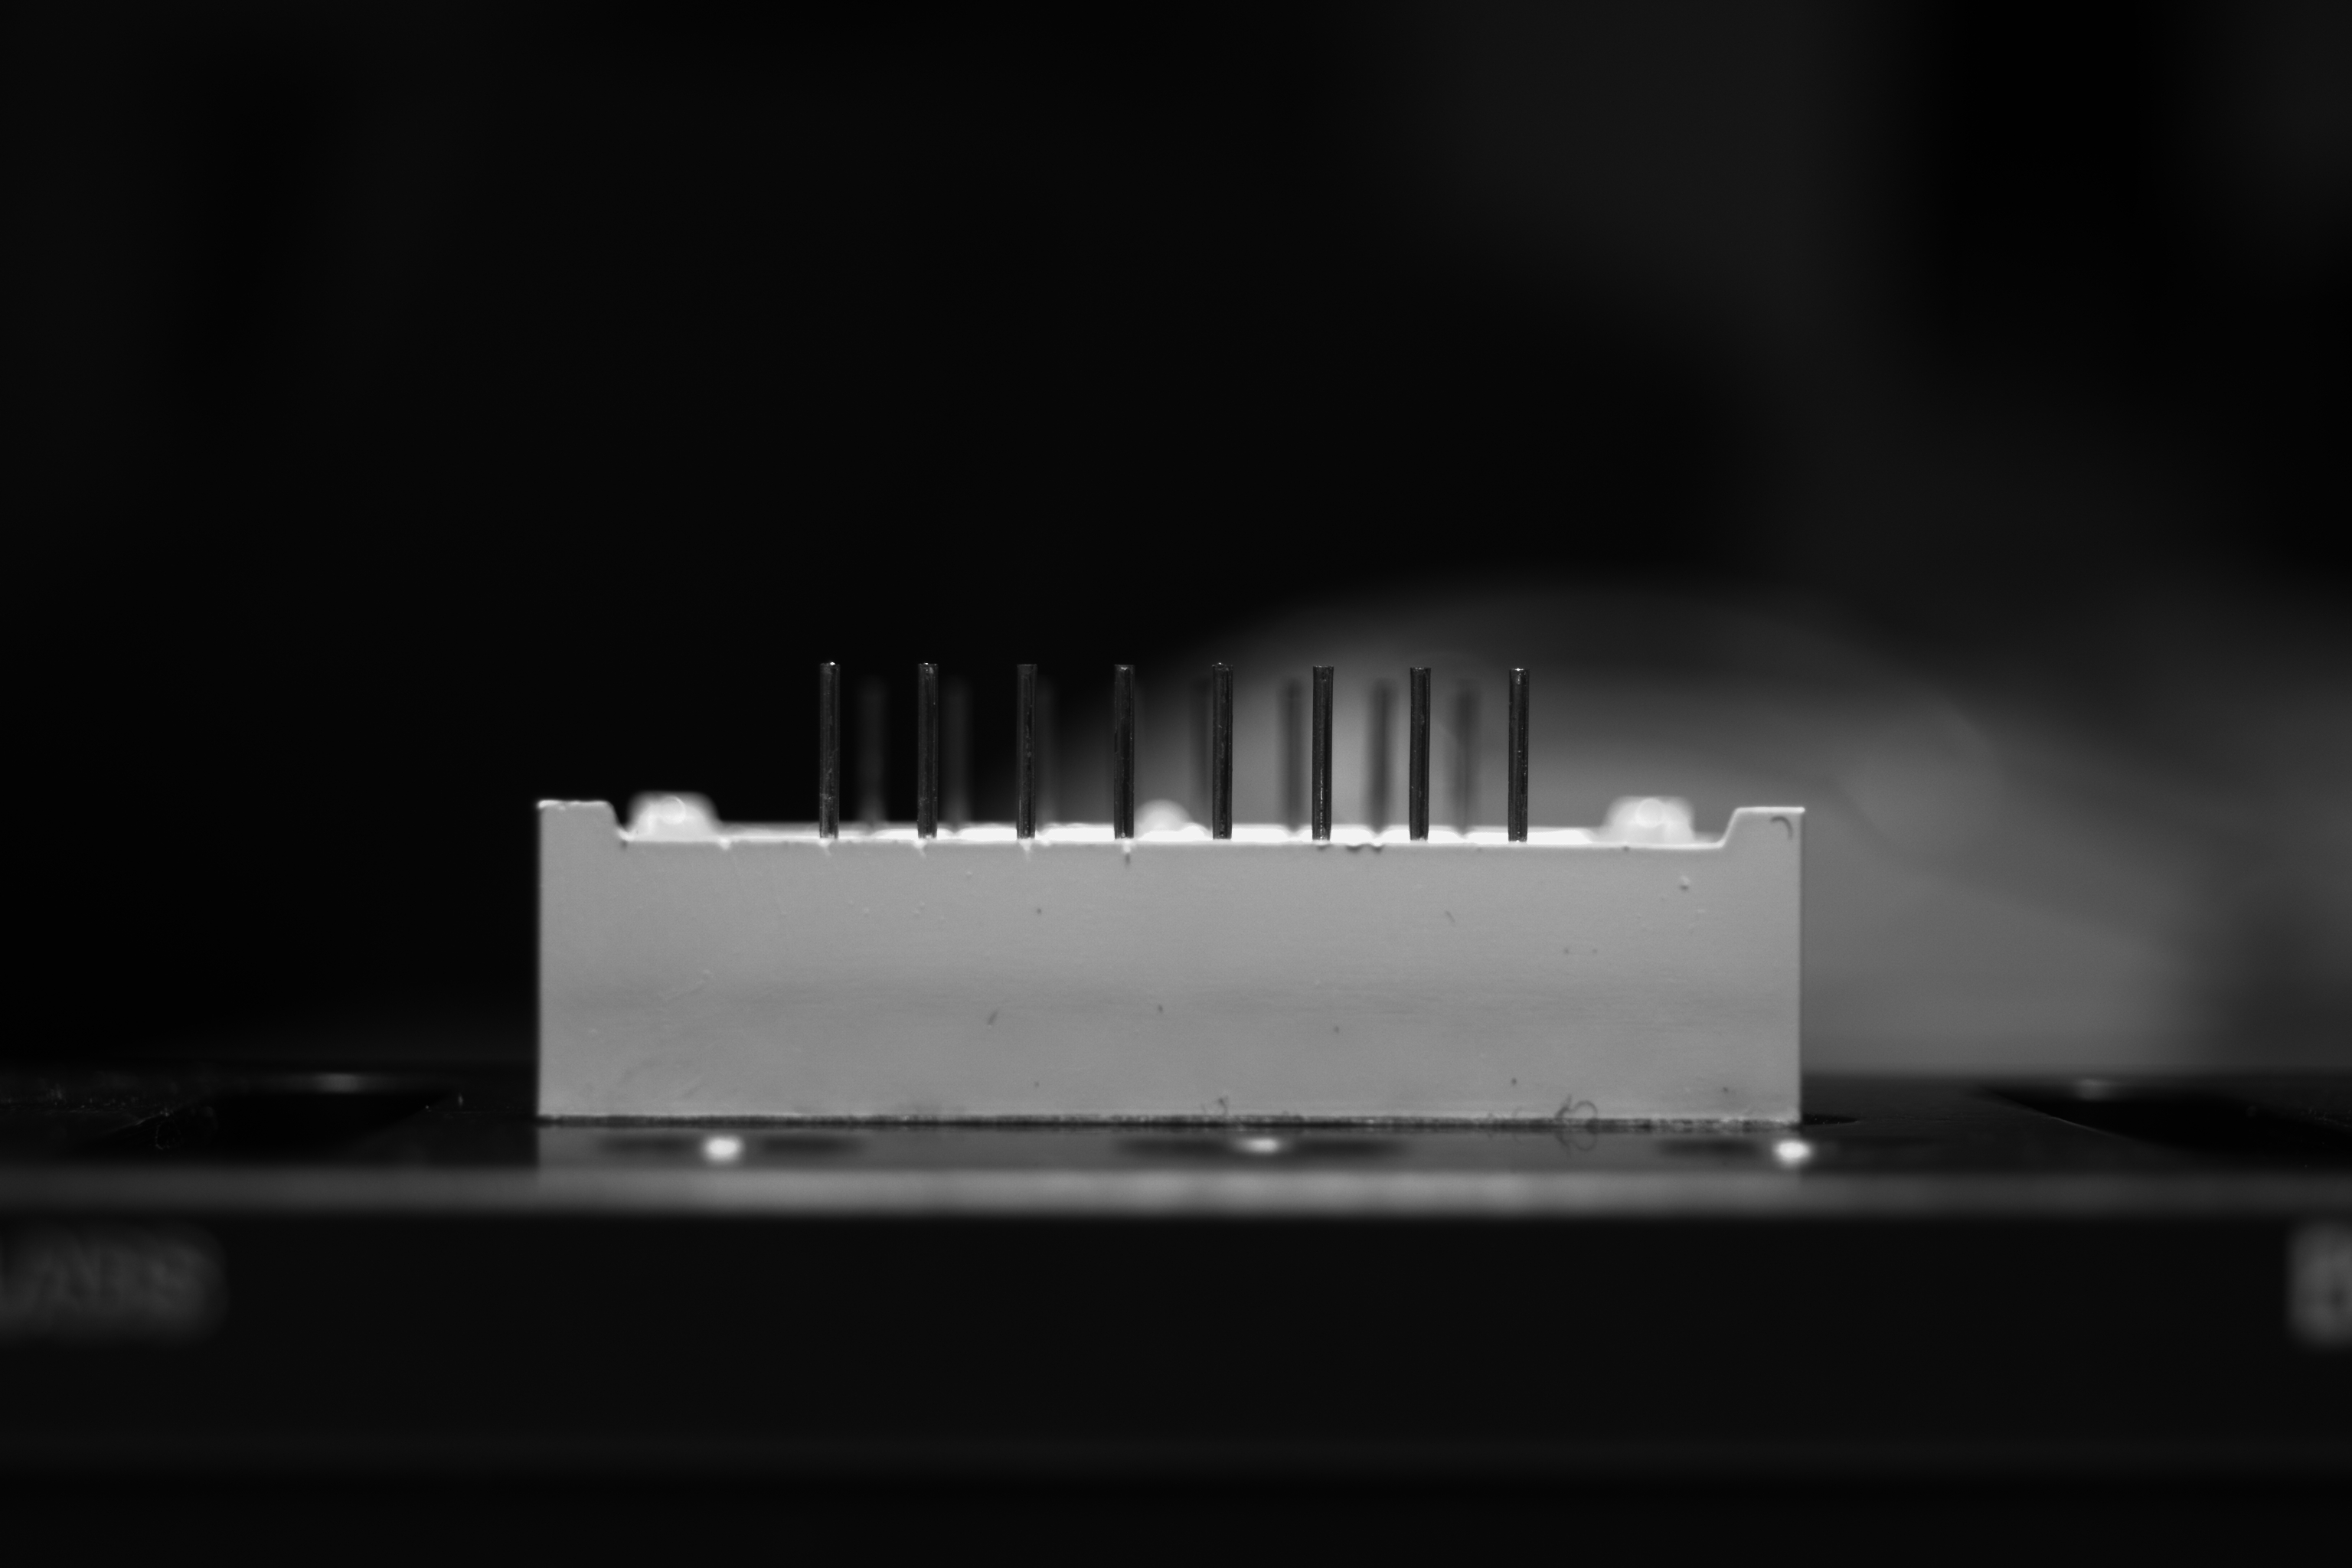Component: (534, 651, 1808, 1129)
